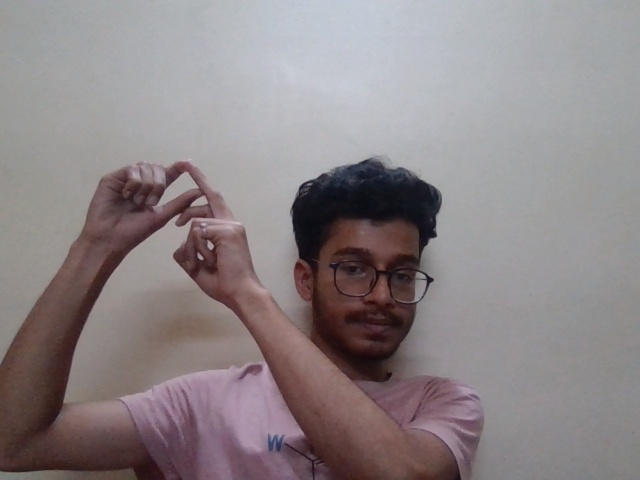R: (68, 153, 277, 309)
